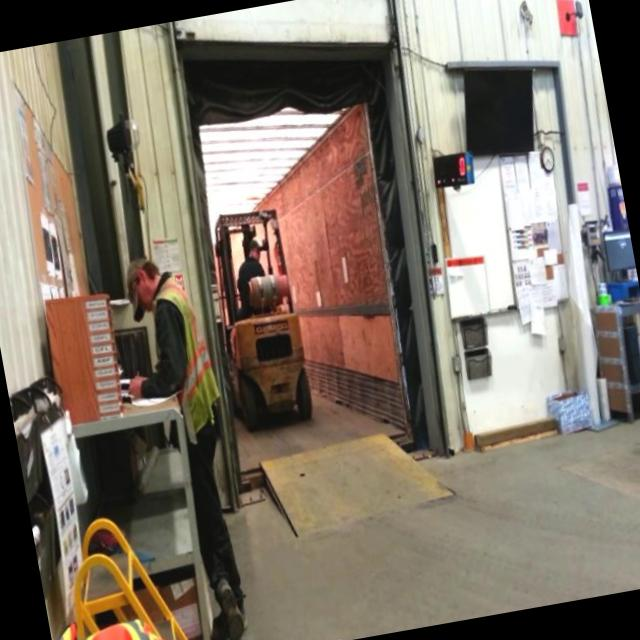driver: (223, 233, 274, 314)
forklift: (191, 194, 332, 444)
person: (103, 242, 280, 640)
